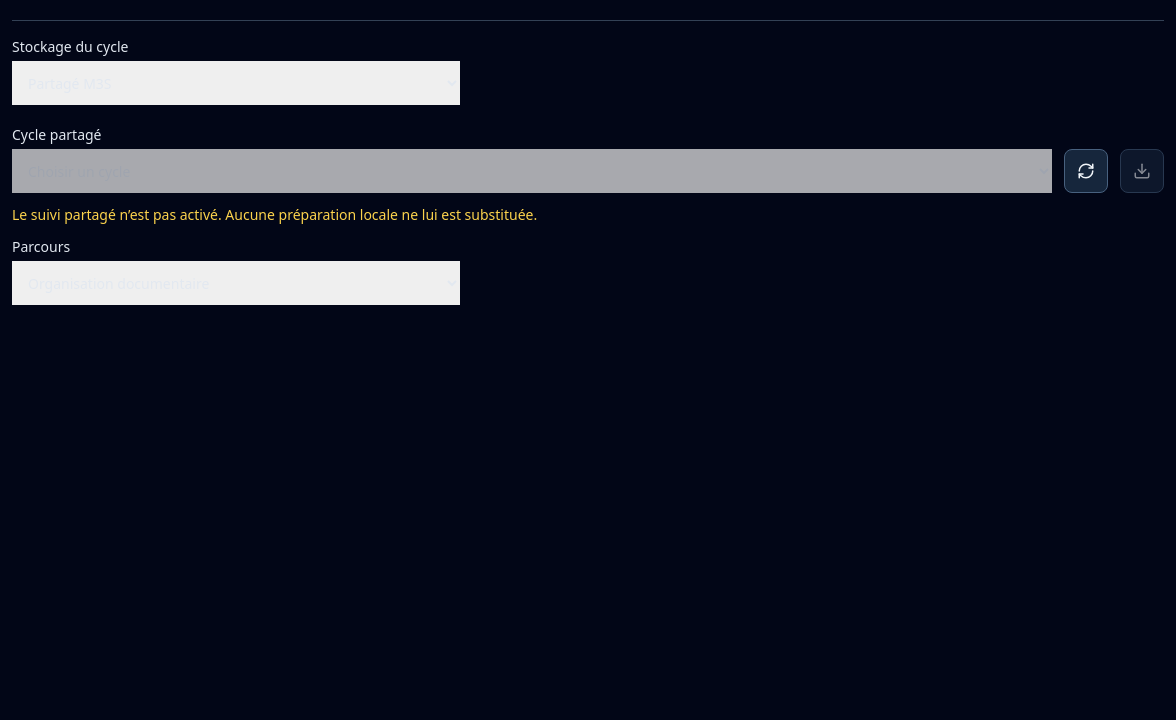
Scenario: a disabled backend does not fall back silently to local storage
The image size is (1176, 720).
Expected: the message shows "n’est pas activé", [12,205,537,224]
Expected: the field labelled "Périmètre" is not shown
Select "Préparation locale" in the dropdown labelled "Stockage du cycle". click: {"x": 236, "y": 83}
box: [12,61,460,105]
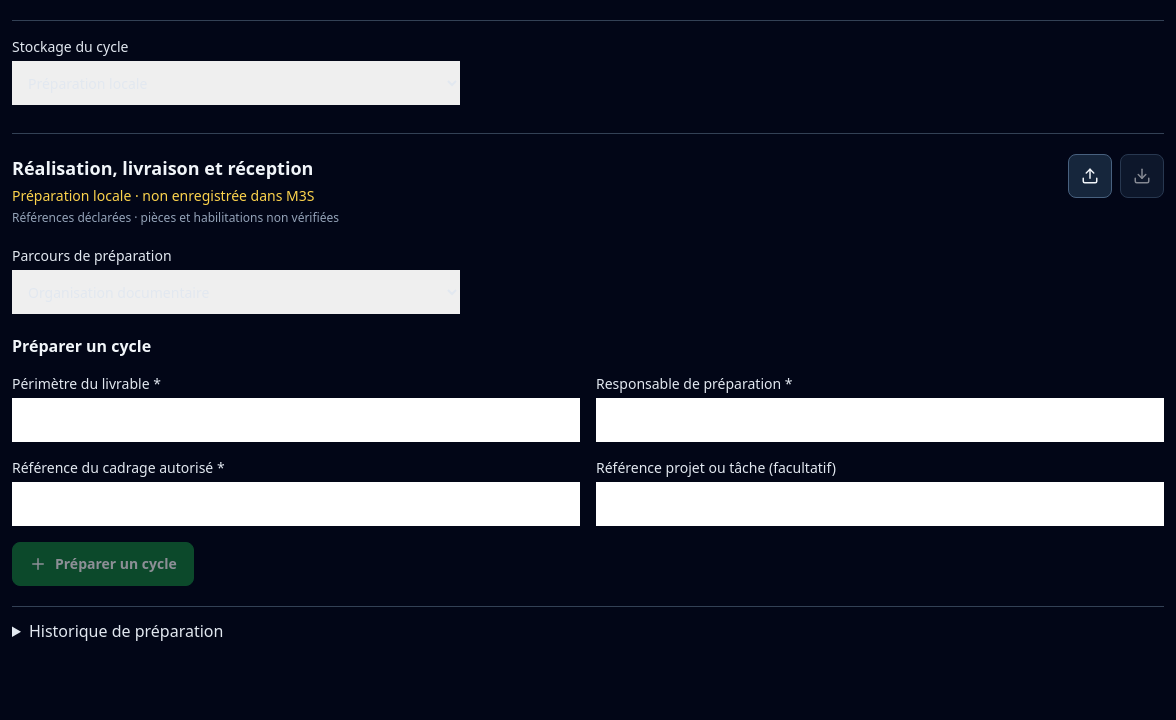
Result: the text "Préparation locale · non enregistrée dans M3S" is shown at [12,186,339,206]
